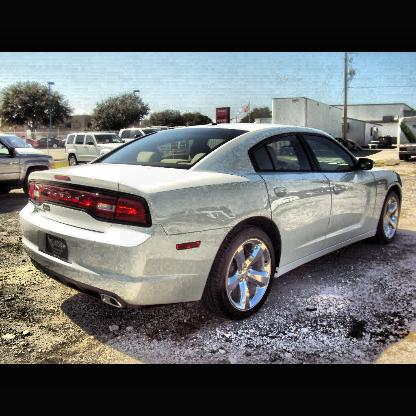Dodge Charger Sedan 2012: (19, 119, 406, 321)
